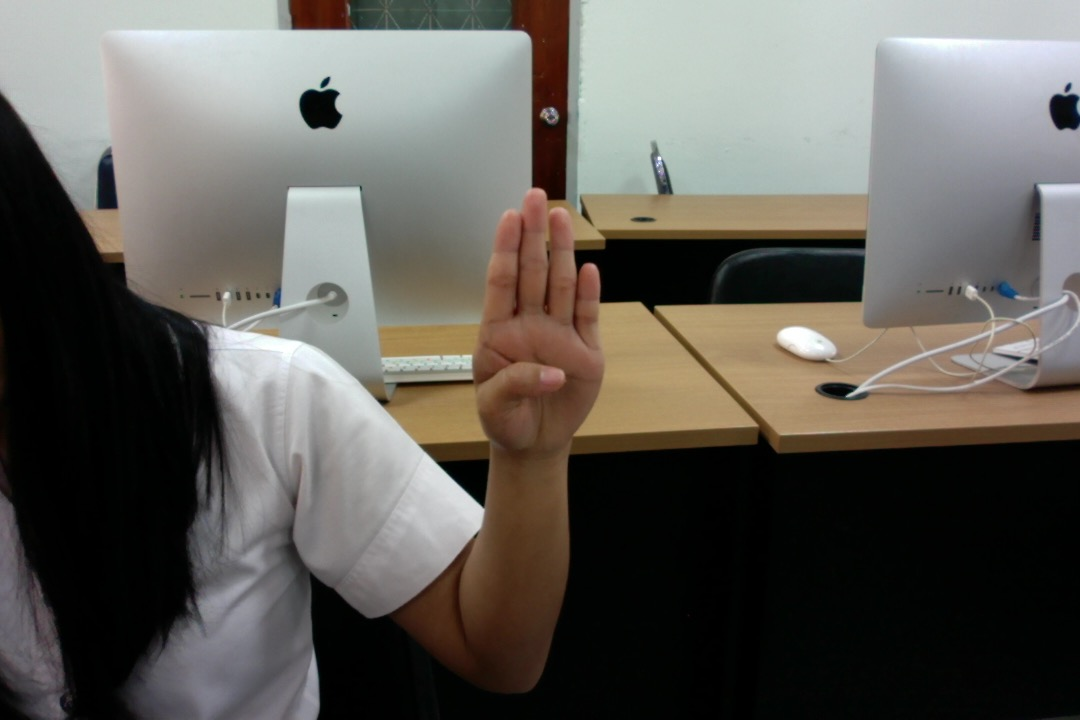bor: (466, 181, 612, 465)
